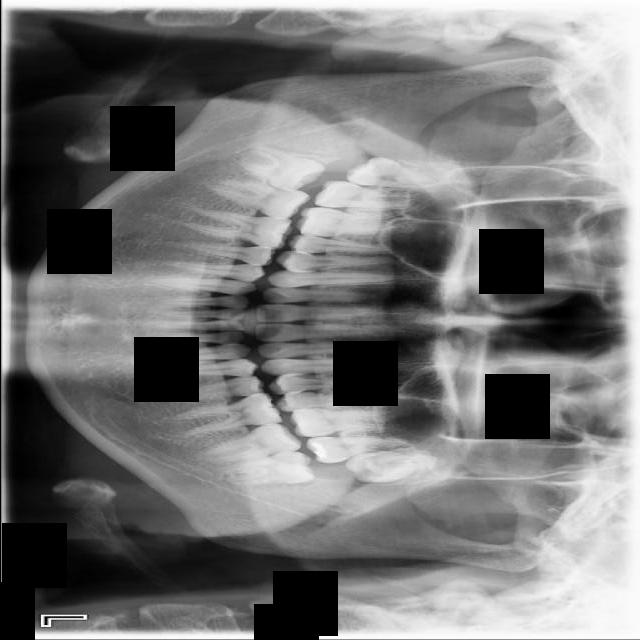3M ESPE Implant: (345, 154, 459, 196)
73: (14, 622, 22, 628)
BioHorizons Implant: (304, 436, 418, 463)
BioLife Implant: (343, 445, 446, 486)
Biomet 3i Implant: (219, 450, 315, 487)
Blue Sky Bio Implant: (198, 417, 303, 472)
Caries: (314, 179, 421, 212)
Implant: (205, 176, 310, 223)
Keystone Dental Implant: (235, 141, 327, 200)
